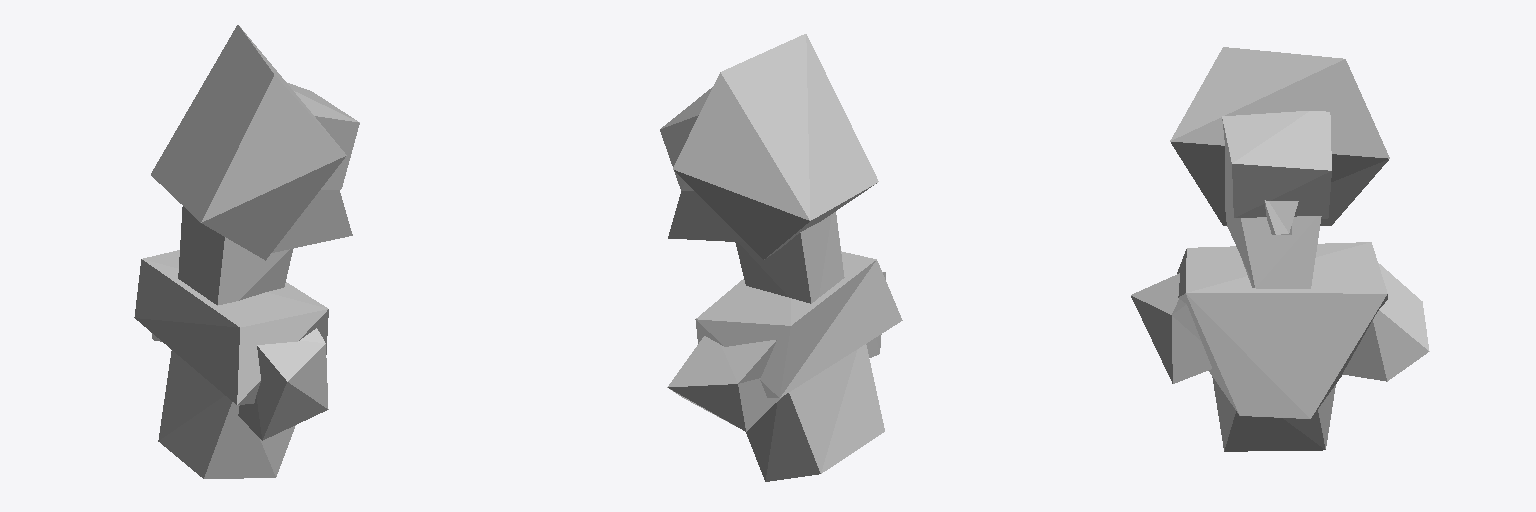
Rendered from bust.obj.
The picture shows the model from 3 angles: view 1: azimuth 30°, elevation 25°; view 2: azimuth 150°, elevation 25°; view 3: azimuth 270°, elevation 25°; orthographic projection.
Visible parts, largest first — view 1: Cube; view 2: Cube; view 3: Cube.
Boxes of the visible parts, <box> form: Cube: <box>134,25,359,478</box>; Cube: <box>660,34,902,481</box>; Cube: <box>1131,47,1429,451</box>.
Size of the model in its own units: 3.21 by 7.39 by 4.9.